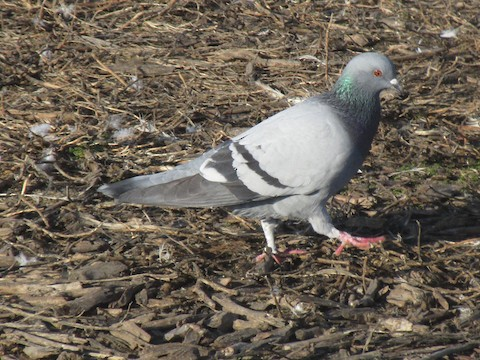pigeon: (87, 48, 408, 267)
